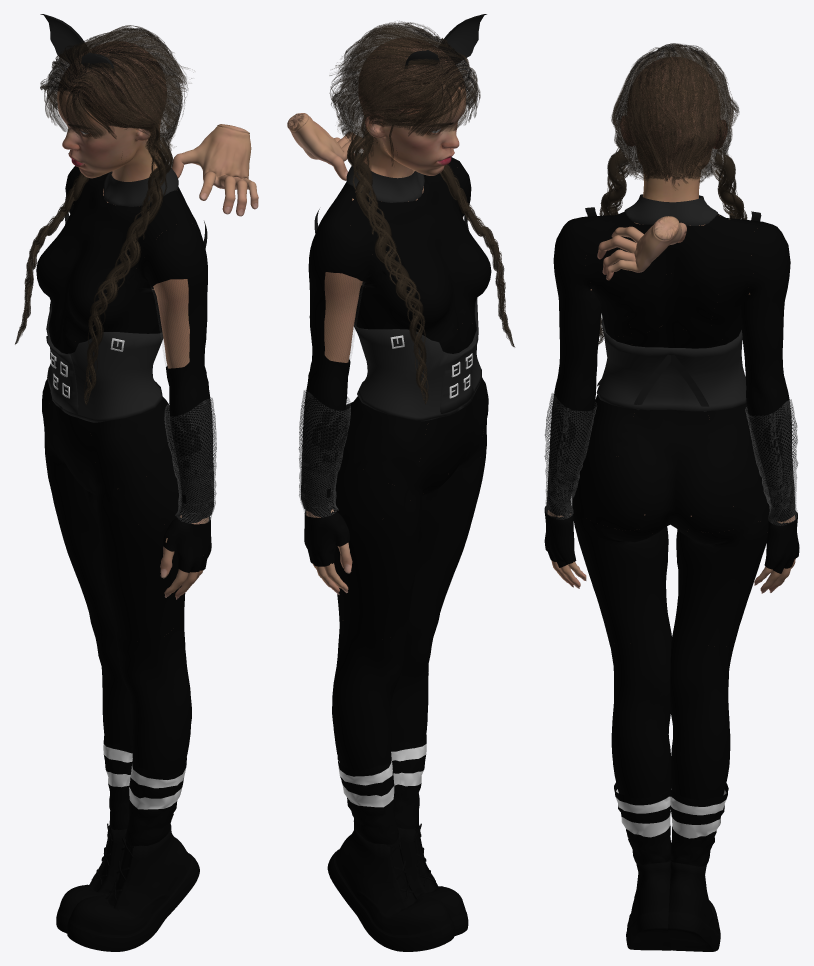
File: wednesday-draco-transformed.glb
The picture shows the model from 3 angles, left to right: view 1: azimuth 30°, elevation 25°; view 2: azimuth 150°, elevation 25°; view 3: azimuth 270°, elevation 25°; orthographic projection.
Parts seen in each view (by area): view 1: Cloth.Kitty, Hair.Braid, Girl, Hand, Hair.front, Cloth.Shoes; view 2: Cloth.Kitty, Hair.Braid, Girl, Hand, Hair.front, Cloth.Shoes; view 3: Cloth.Kitty, Hair.Braid, Girl, Hand, Cloth.Shoes.
Boxes of the visible parts, x1,y1,x2,y2 form: Cloth.Kitty: [36, 14, 216, 951]; Hair.Braid: [15, 25, 191, 405]; Girl: [57, 42, 208, 599]; Hand: [172, 124, 258, 216]; Hair.front: [44, 76, 114, 138]; Cloth.Shoes: [103, 744, 185, 809]; Cloth.Kitty: [298, 14, 491, 951]; Hair.Braid: [329, 21, 515, 404]; Girl: [306, 39, 466, 594]; Hand: [287, 113, 364, 180]; Hair.front: [404, 74, 480, 136]; Cloth.Shoes: [338, 744, 426, 807]; Cloth.Kitty: [544, 194, 799, 951]; Hair.Braid: [598, 43, 747, 344]; Girl: [547, 57, 795, 593]; Hand: [597, 216, 686, 280]; Cloth.Shoes: [615, 789, 726, 838].
Size of the model in its own units: 0.5687 by 2.54 by 0.6453.
Materials: 19 (15 with a texture image).
